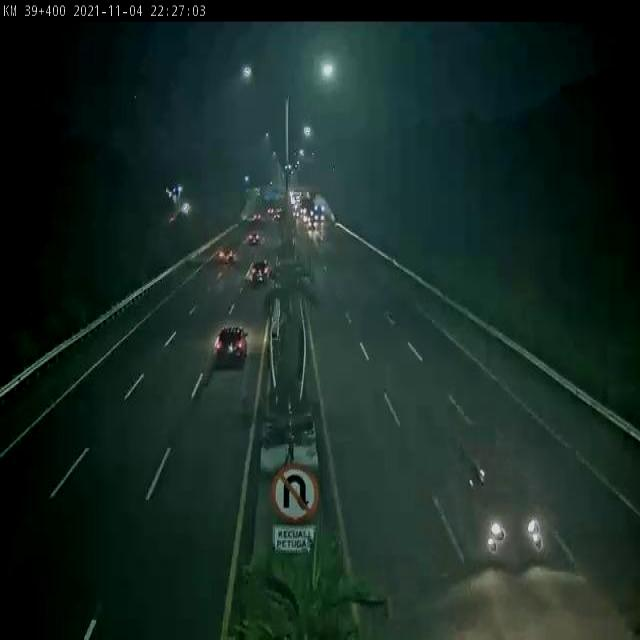Car: (458, 445, 546, 570), (210, 315, 250, 380), (247, 252, 272, 290), (217, 242, 240, 270), (245, 224, 265, 254)
